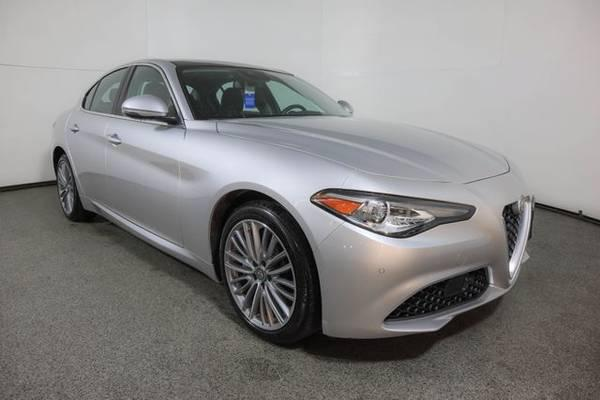Front_Bumper: (315, 206, 512, 336)
Front_Fender: (180, 119, 349, 278)
Front_Right_Door: (106, 115, 181, 257)
Front_Right_Window: (117, 66, 191, 129)
Front_Windshield: (172, 63, 345, 118)
Grille: (504, 193, 534, 285)
Hood: (209, 114, 527, 207)
Rear_Fender: (52, 109, 73, 154)
Rear_Right_Door: (65, 108, 113, 215)
Rear_Right_Window: (80, 65, 134, 114)
Right_Headlight: (309, 188, 477, 239)
Roof: (72, 57, 187, 126)
Wheel: (217, 203, 316, 337), (54, 159, 78, 219)
